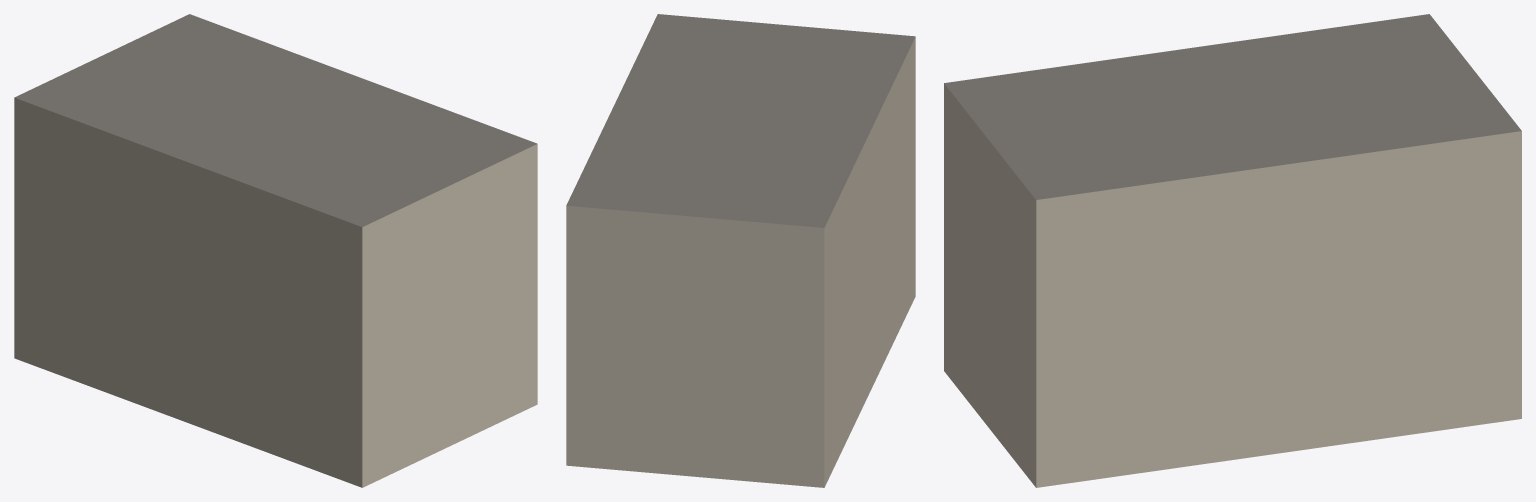
3 renders of one model, left to right at view 1: azimuth 30°, elevation 25°; view 2: azimuth 150°, elevation 25°; view 3: azimuth 270°, elevation 25°, orthographic. The views are drawn at different scales.
Visible parts, largest first — view 1: HP-w446933494; view 2: HP-w446933494; view 3: HP-w446933494.
Boxes of the visible parts, x1,y1,x2,y2 form: HP-w446933494: (14, 14, 537, 487); HP-w446933494: (566, 14, 915, 487); HP-w446933494: (944, 14, 1521, 487).
Size of the model in its own units: 24.96 by 18 by 32.75.
